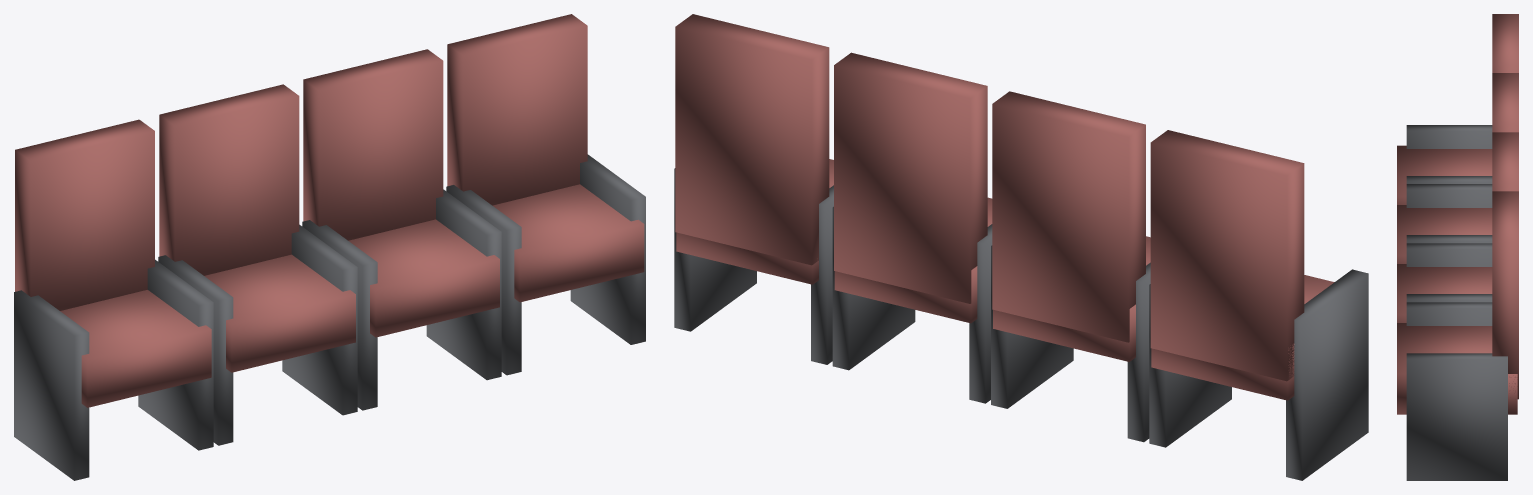
File: theater_seat_row__tall.glb
The picture shows the model from 3 angles, left to right: view 1: azimuth 30°, elevation 25°; view 2: azimuth 150°, elevation 25°; view 3: azimuth 270°, elevation 25°; orthographic projection. The views are drawn at different scales.
Visible parts, largest first — view 1: world; view 2: world; view 3: world.
Boxes of the visible parts, bbox=[...] form: world: bbox=[14, 14, 645, 480]; world: bbox=[674, 14, 1368, 480]; world: bbox=[1397, 14, 1518, 480].
Bounding box in the file's own units: 2.3 × 1.08 × 0.505.
